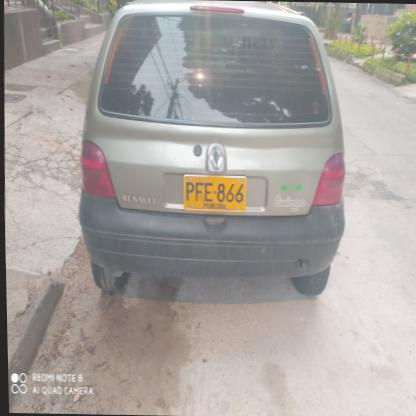placa: (177, 173, 251, 217)
